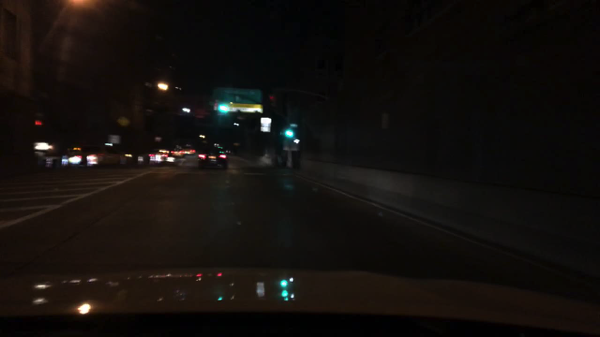car: (69, 146, 121, 168), (198, 146, 228, 170), (148, 149, 175, 164), (170, 148, 185, 159), (184, 147, 196, 155)
traffic light: (219, 104, 228, 112), (285, 129, 293, 137), (269, 96, 277, 102)
traffic sign: (228, 89, 263, 112), (260, 117, 271, 132), (108, 135, 121, 145), (116, 116, 129, 125)
